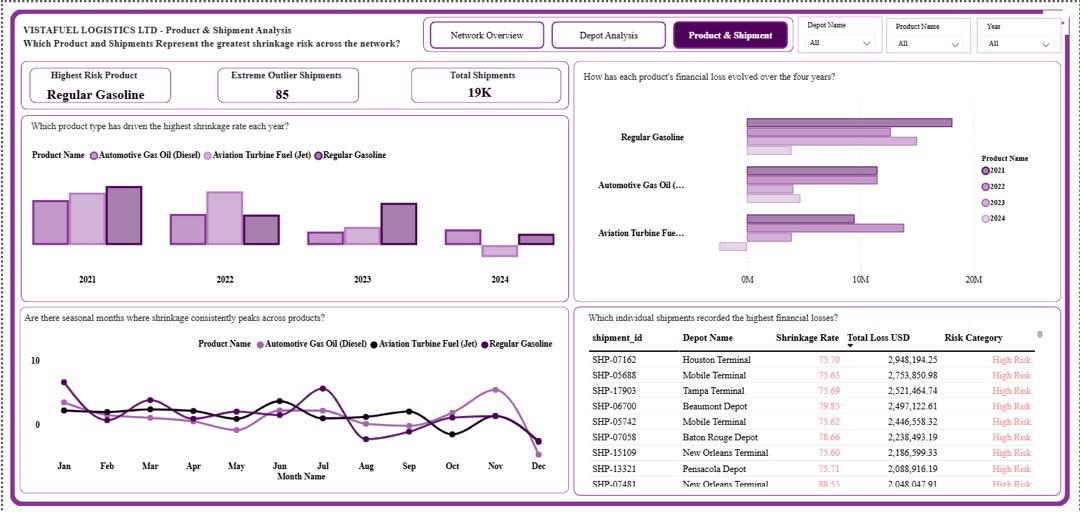

This screenshot's page, from the dashboard's own definition file:
{"tool":"powerbi","page":{"name":"Product & Shipment","canvas":[1520,740],"ordinal":2},"visuals":[{"type":"shape","box":[25,82.8,775,68.8],"z":0},{"type":"shape","box":[0,0,1520.6,722.1],"z":1000},{"type":"shape","box":[8.8,8.8,1498.5,702.9],"z":2000},{"type":"textbox","box":[23.5,23.5,570.6,58.8],"z":3000},{"type":"shape","box":[25,159.4,775,264.1],"z":4000},{"type":"shape","box":[23.4,429.7,776.6,264.1],"z":5000},{"type":"shape","box":[806.2,82.8,689.1,340.6],"z":6000},{"type":"shape","box":[806.2,429.7,689.1,267.2],"z":7000},{"type":"cardVisual","fields":{"Data":["_Measures.Highest Risk Product"]},"box":[32.8,101.6,215.6,56.2],"z":8000},{"type":"cardVisual","fields":{"Data":["_Measures.Total Shipments Analysed"]},"box":[628.1,96.9,110.9,59.4],"z":9000},{"type":"cardVisual","fields":{"Data":["_Measures.Extreme Shipments"]},"box":[356.2,104.7,134.4,50],"z":10000},{"type":"textbox","box":[62.5,87.5,157.8,35.9],"z":11000},{"type":"textbox","box":[626.6,87.5,115.6,29.7],"z":12000},{"type":"textbox","box":[317.2,87.5,175,31.2],"z":13000},{"type":"lineChart","fields":{"Category":["Date Table.Month Name"],"Y":["_Measures.Shrinkage Rate Numeric"],"Series":["dim_product.product_name"]},"box":[34.4,464.1,751.6,217.2],"z":14000},{"type":"clusteredBarChart","fields":{"Category":["dim_product.product_name"],"Y":["_Measures.Total Loss USD"],"Series":["Date Table.Year"]},"box":[821.9,123.4,653.1,284.4],"z":15000},{"type":"clusteredColumnChart","fields":{"Category":["Date Table.Year"],"Y":["_Measures.Shrinkage Rate Numeric"],"Series":["dim_product.product_name"]},"box":[35.9,196.9,748.4,210.9],"z":16000},{"type":"textbox","box":[25,429.4,608.8,47.1],"z":17000},{"type":"textbox","box":[815.6,89.1,532.8,34.4],"z":18000},{"type":"textbox","box":[33.8,158.8,532.4,36.8],"z":19000},{"type":"textbox","box":[821.9,429.7,401.6,34.4],"z":20000},{"type":"slicer","fields":{"Values":["Date Table.Year"]},"box":[1376.5,22.1,119.1,50],"z":21000},{"type":"slicer","fields":{"Values":["dim_product.product_name"]},"box":[1248.5,22.1,119.1,50],"z":22000},{"type":"shape","box":[38.2,92.6,200,50],"z":23000},{"type":"slicer","fields":{"Values":["dim_depot.depot_name"]},"box":[1123.5,20.6,119.1,51.5],"z":24000},{"type":"shape","box":[303.1,92.2,200,50],"z":25000},{"type":"shape","box":[576.6,92.2,212.5,50],"z":26000},{"type":"shape","box":[594.1,20.6,523.5,50],"z":27000},{"type":"pageNavigator","box":[602.9,26.5,508.8,39.7],"z":28000},{"type":"tableEx","fields":{"Values":["fact_inventory_movement.shipment_id","dim_depot.depot_name","_Measures.Shrinkage Rate Numeric","_Measures.Total Loss USD","_Measures.Risk Category"]},"box":[821.9,457.8,653.1,231.2],"z":29000},{"type":"shape","box":[25,82.8,775,68.8],"z":30000}]}

Visuals, with their boxes in screenshot pixels (x1, y1, x2, y2), scaled from the page's 1520x740 canvas onto the 1080x512 screenshot:
shape: locate(18, 57, 568, 105)
shape: locate(0, 0, 1079, 500)
shape: locate(6, 6, 1071, 492)
textbox: locate(17, 16, 422, 57)
shape: locate(18, 110, 568, 293)
shape: locate(17, 297, 568, 480)
shape: locate(573, 57, 1062, 293)
shape: locate(573, 297, 1062, 482)
cardVisual - _Measures.Highest Risk Product: locate(23, 70, 176, 109)
cardVisual - _Measures.Total Shipments Analysed: locate(446, 67, 525, 108)
cardVisual - _Measures.Extreme Shipments: locate(253, 72, 349, 107)
textbox: locate(44, 61, 157, 85)
textbox: locate(445, 61, 527, 81)
textbox: locate(225, 61, 350, 82)
lineChart - Date Table.Month Name x _Measures.Shrinkage Rate Numeric: locate(24, 321, 558, 471)
clusteredBarChart - dim_product.product_name x _Measures.Total Loss USD: locate(584, 85, 1048, 282)
clusteredColumnChart - Date Table.Year x _Measures.Shrinkage Rate Numeric: locate(26, 136, 557, 282)
textbox: locate(18, 297, 450, 330)
textbox: locate(580, 62, 958, 85)
textbox: locate(24, 110, 402, 135)
textbox: locate(584, 297, 869, 321)
slicer - Date Table.Year: locate(978, 15, 1063, 50)
slicer - dim_product.product_name: locate(887, 15, 972, 50)
shape: locate(27, 64, 169, 99)
slicer - dim_depot.depot_name: locate(798, 14, 883, 50)
shape: locate(215, 64, 357, 98)
shape: locate(410, 64, 561, 98)
shape: locate(422, 14, 794, 49)
pageNavigator: locate(428, 18, 790, 46)
tableEx - fact_inventory_movement.shipment_id x dim_depot.depot_name: locate(584, 317, 1048, 477)
shape: locate(18, 57, 568, 105)
